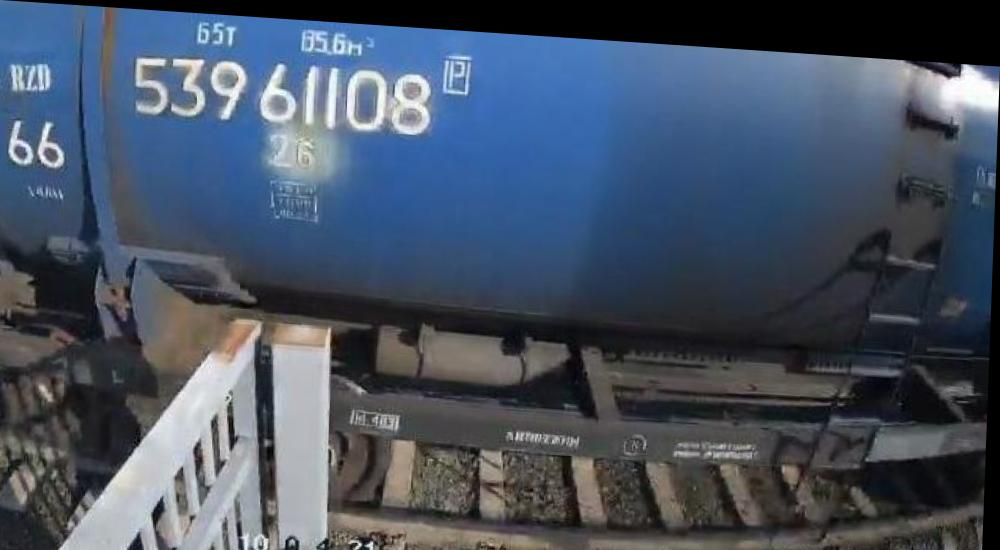Wagon-number: (127, 47, 437, 135)
